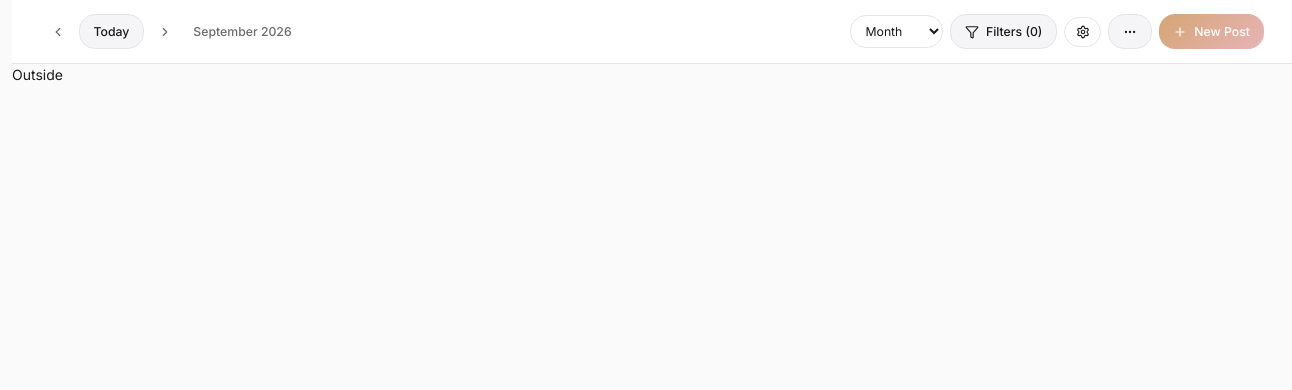
Scenario: CalendarToolbar filters › does not show unconnected platforms: No social accounts connected.
Click the button "Filters (0)" at (1004, 32), box [950,14,1057,49]
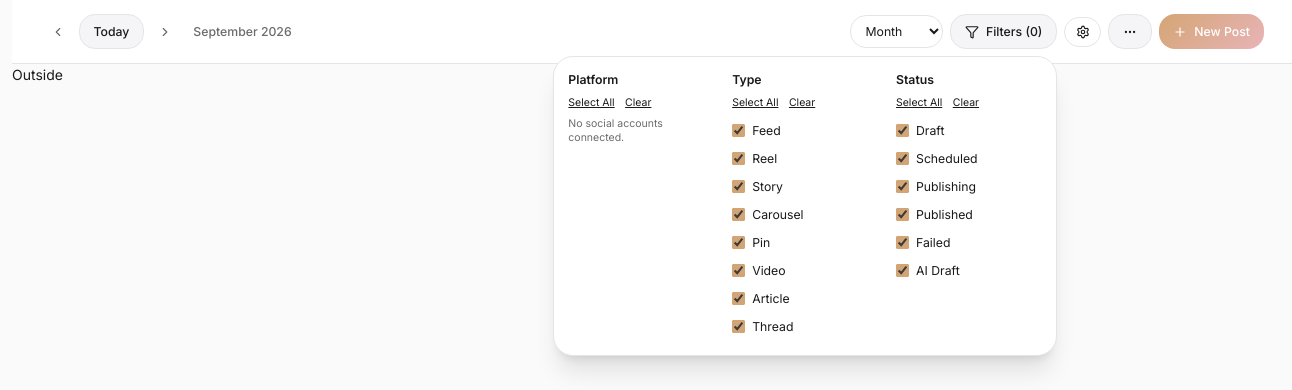
Expected: the text "No social accounts connected." is shown, [568,116,663,144]
